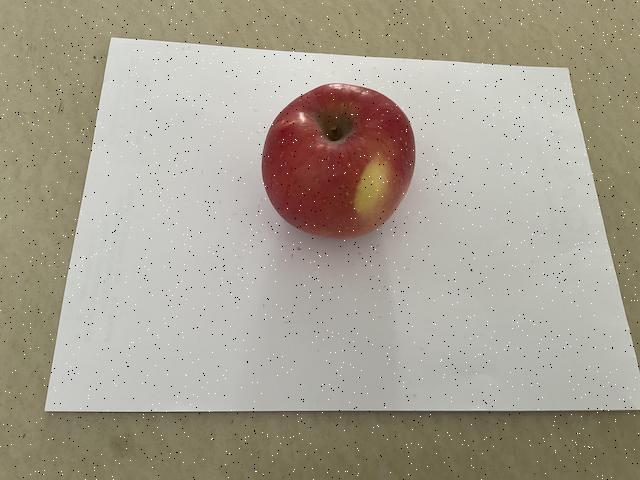apple: (258, 75, 418, 246)
